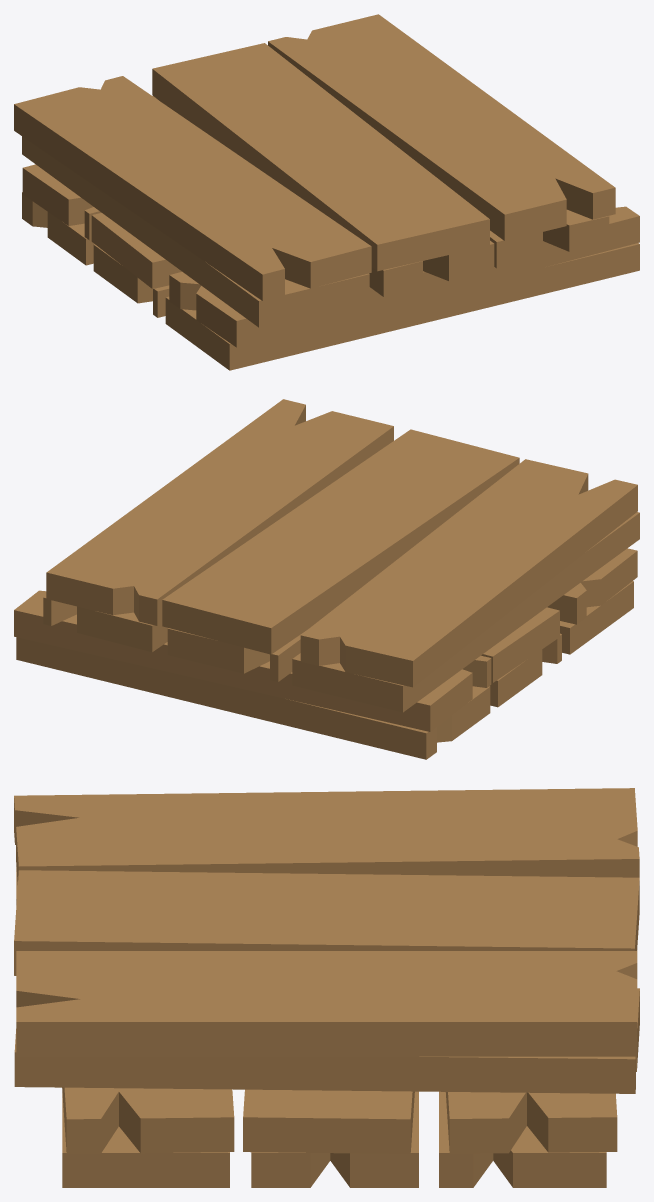
Rendered from SRA_Wood_Plank_Stack_02.glb.
The picture shows the model from 3 angles, top to bottom: view 1: azimuth 30°, elevation 25°; view 2: azimuth 150°, elevation 25°; view 3: azimuth 270°, elevation 25°; orthographic projection. The views are drawn at different scales.
Visible parts, largest first — view 1: Wood_Plank_Stack_02; view 2: Wood_Plank_Stack_02; view 3: Wood_Plank_Stack_02.
Part boxes in pixels (x1,y1,x2,y2): Wood_Plank_Stack_02: [14, 14, 639, 370]; Wood_Plank_Stack_02: [14, 399, 639, 759]; Wood_Plank_Stack_02: [14, 788, 639, 1187].
Size of the model in its own units: 0.9217 by 0.2259 by 0.9217.
1 material, 1 textured.
